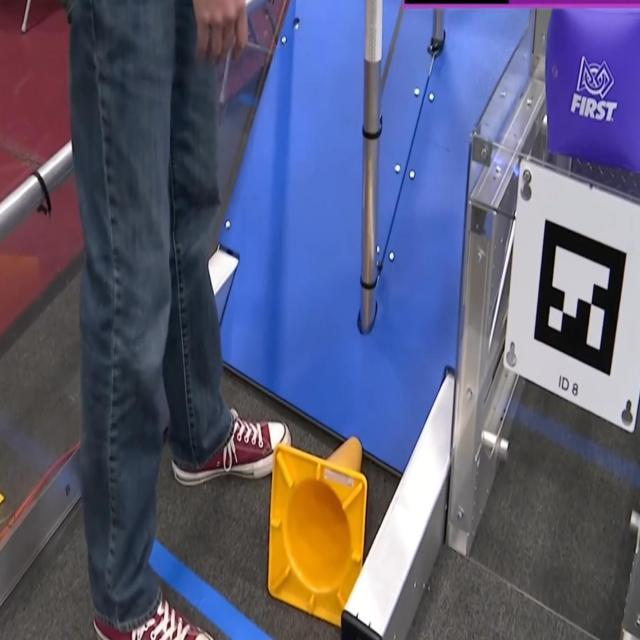frc_cone: (268, 436, 370, 628)
frc_cube: (544, 0, 640, 173)
